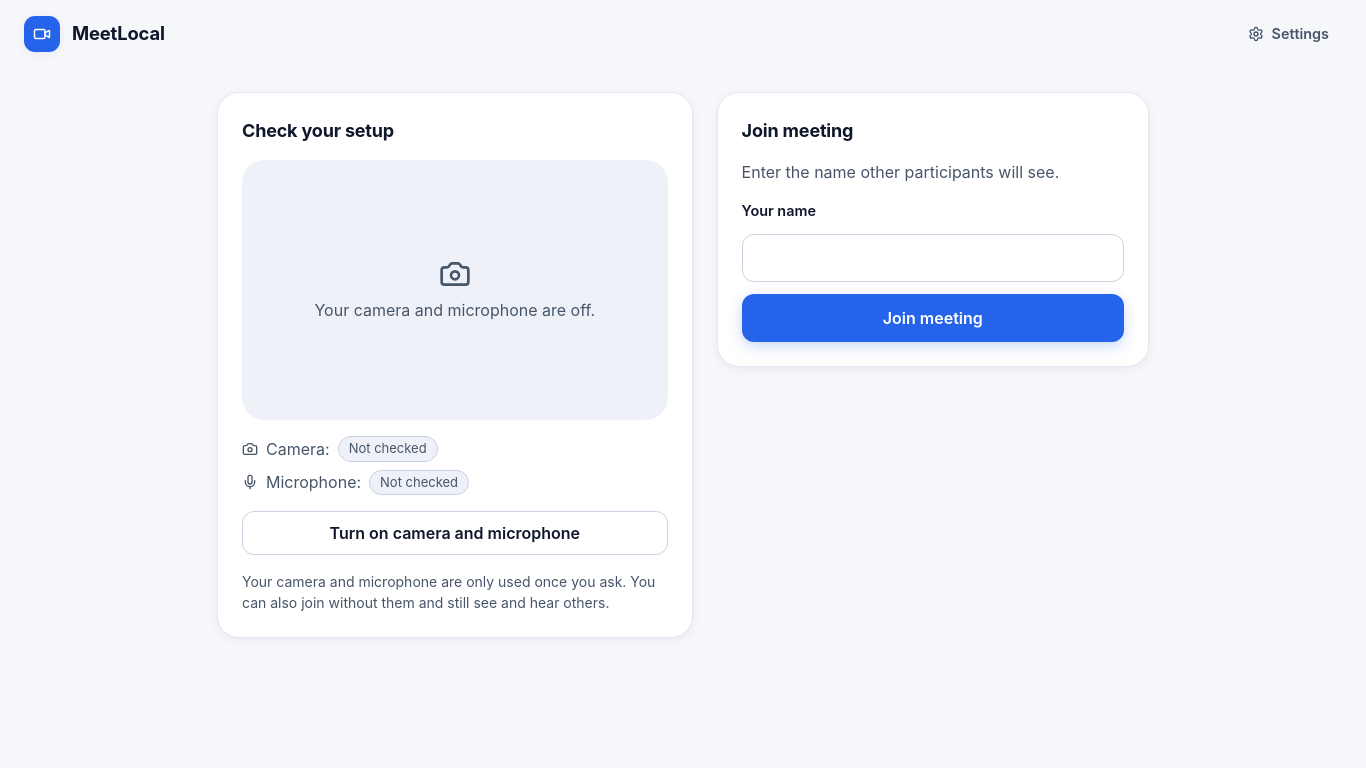
Test: join page › requires a display name before entering the meeting
Step 1. Click the button "Join meeting" → (933, 318), box [742,294,1124,342]
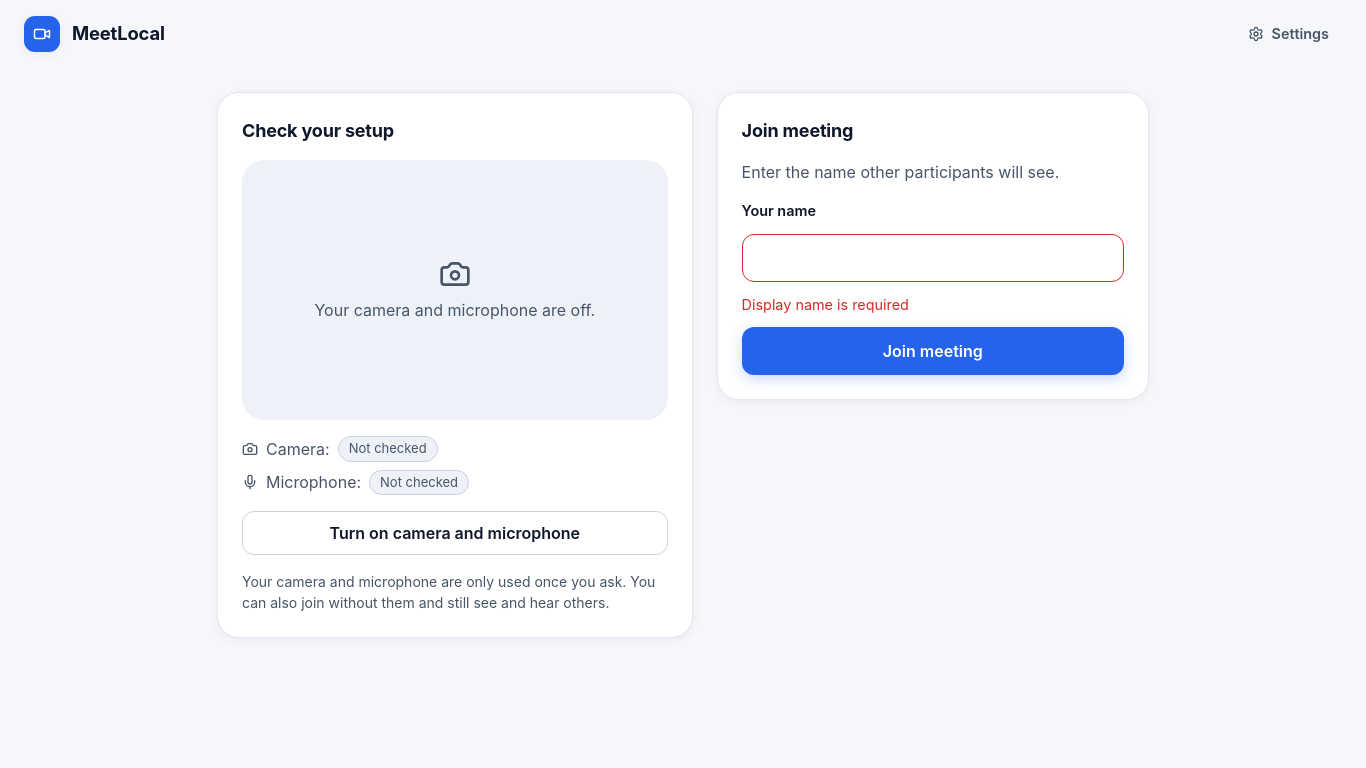
Expected: the message reads "Display name is required", [742,296,909,313]
